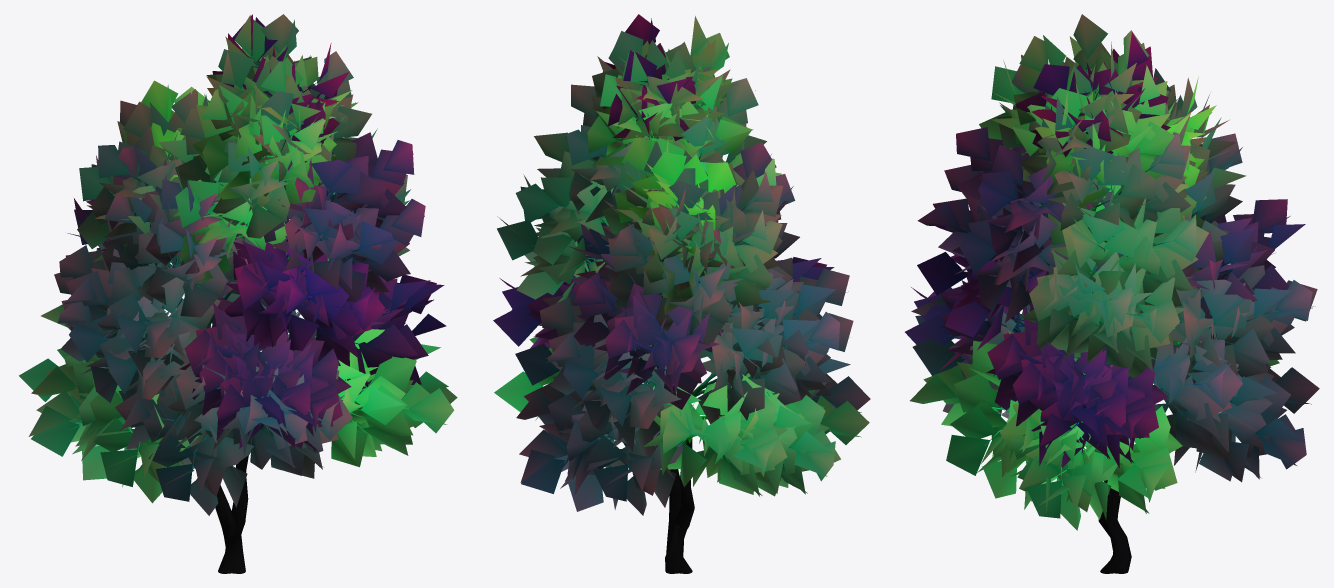
File: Tree.glb
The picture shows the model from 3 angles, left to right: view 1: azimuth 30°, elevation 25°; view 2: azimuth 150°, elevation 25°; view 3: azimuth 270°, elevation 25°; orthographic projection. The views are drawn at different scales.
Parts seen in each view (by area): view 1: Tree_0.001; view 2: Tree_0.001; view 3: Tree_0.001.
Part boxes in pixels (left/top/right/bottom): Tree_0.001: left=19, top=14, right=457, bottom=573; Tree_0.001: left=493, top=14, right=870, bottom=573; Tree_0.001: left=905, top=14, right=1319, bottom=573.
Bounding box in the file's own units: 7.31 × 10 × 6.87.
